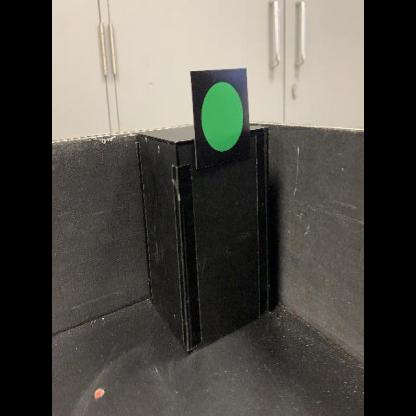go: (189, 68, 253, 171)
